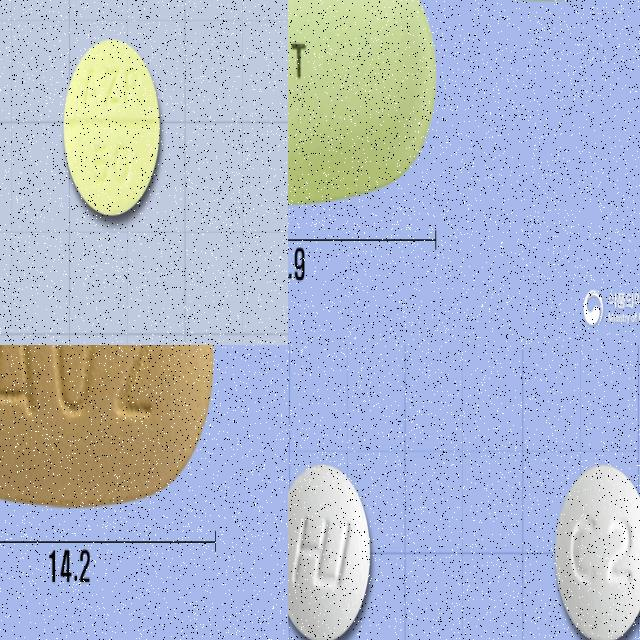Exviera: (0, 345, 214, 509)
Huloxacin: (554, 464, 640, 640), (288, 463, 372, 640)
Klaricid Film Coated: (288, 0, 438, 207)
Tivicay Tab: (64, 40, 160, 217)
